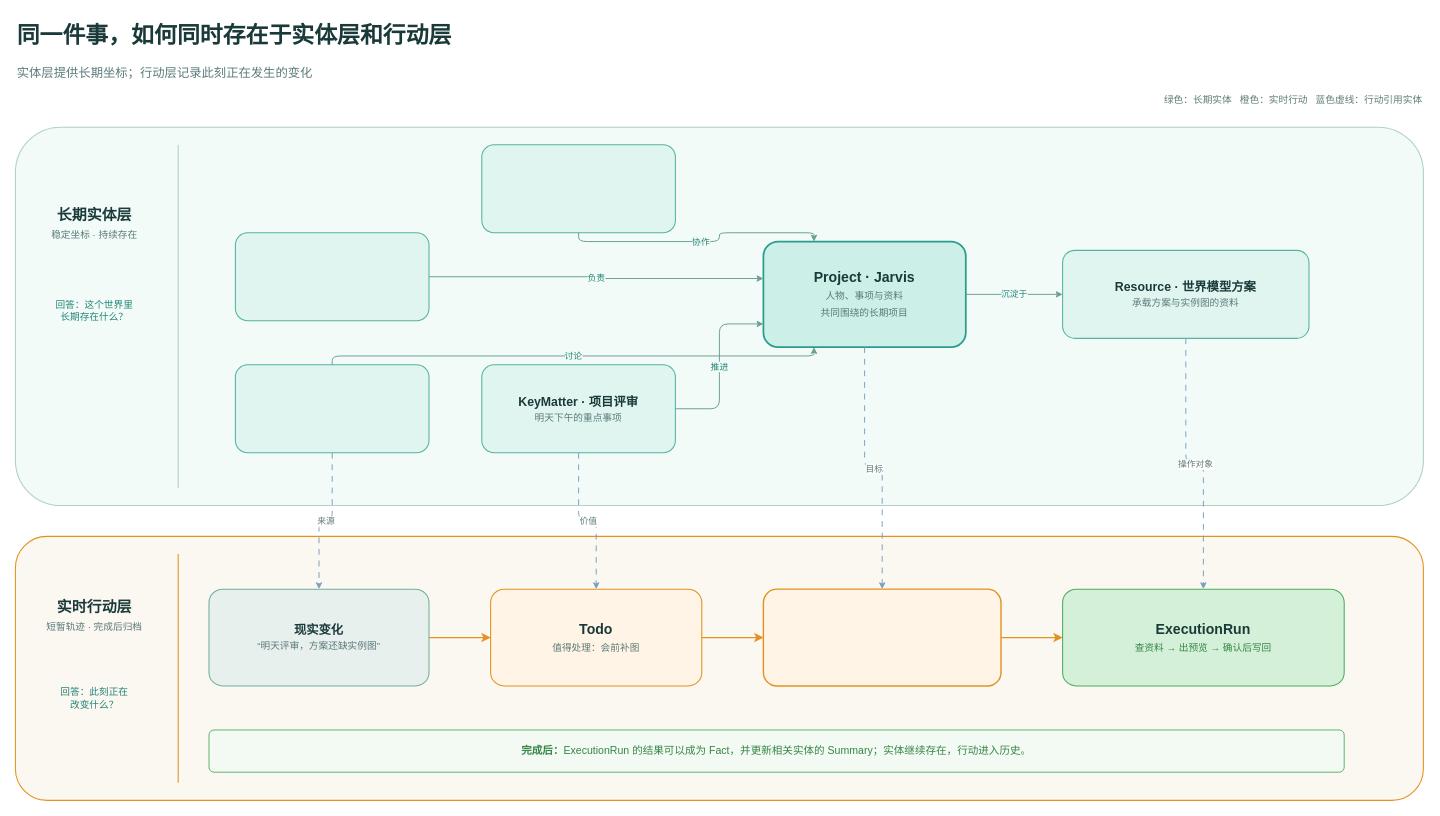
Image size: 1440x816. Some labels were removed from this diagram. Here are the shapes that lost their labels. From the top down, the box of each, then its label:
(481, 144, 675, 233): Person · 项目负责人 项目中的协作者
(234, 232, 429, 321): Principal · 我 世界模型的坐标原点
(234, 364, 429, 453): Group · Jarvis 核心群 讨论发生的语境
(762, 588, 1001, 686): Task 补齐实例图 更新方案并通知评审人
